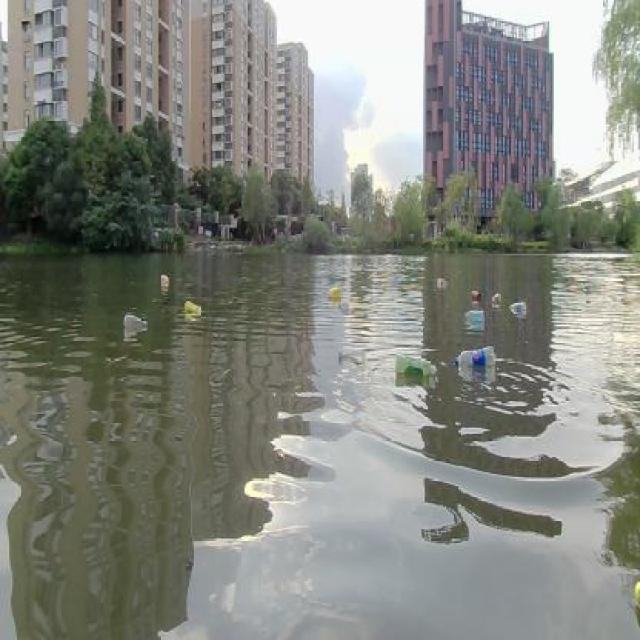Bottle: (392, 350, 444, 386), (450, 344, 506, 370), (462, 306, 492, 328)
Waste: (116, 312, 154, 334), (432, 270, 458, 294), (179, 300, 209, 320), (506, 299, 534, 319), (323, 284, 347, 306), (156, 267, 172, 291), (488, 288, 506, 306), (466, 286, 486, 302)
